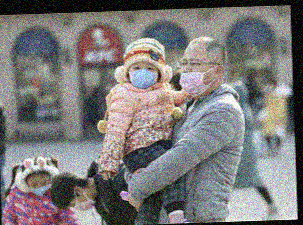mask_weared_incorrect: (176, 55, 216, 99)
with_mask: (127, 62, 160, 90), (67, 197, 98, 212), (28, 177, 50, 197)
